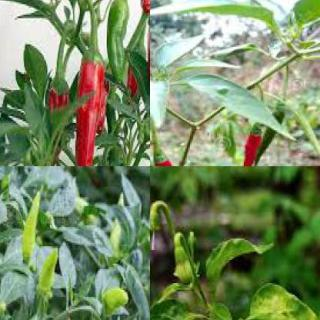green_chilli: (252, 108, 292, 165), (106, 0, 129, 87), (18, 190, 44, 266), (102, 286, 132, 315), (108, 146, 127, 166)
